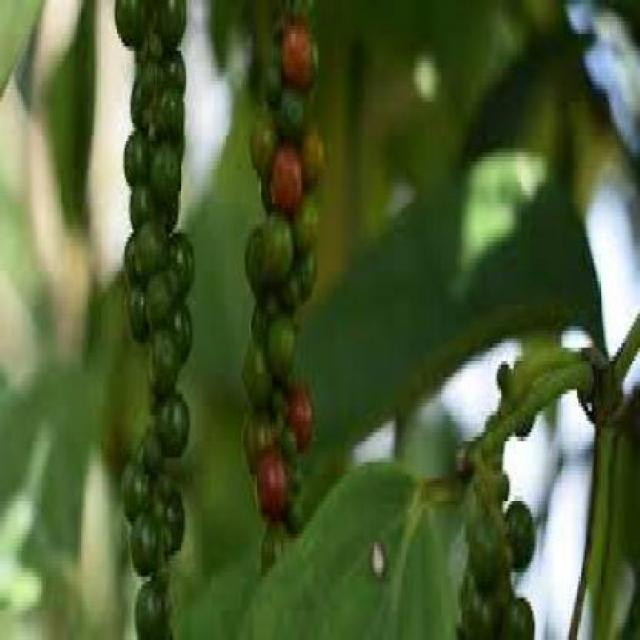UNRIPE: (117, 29, 192, 602), (257, 38, 328, 559)
